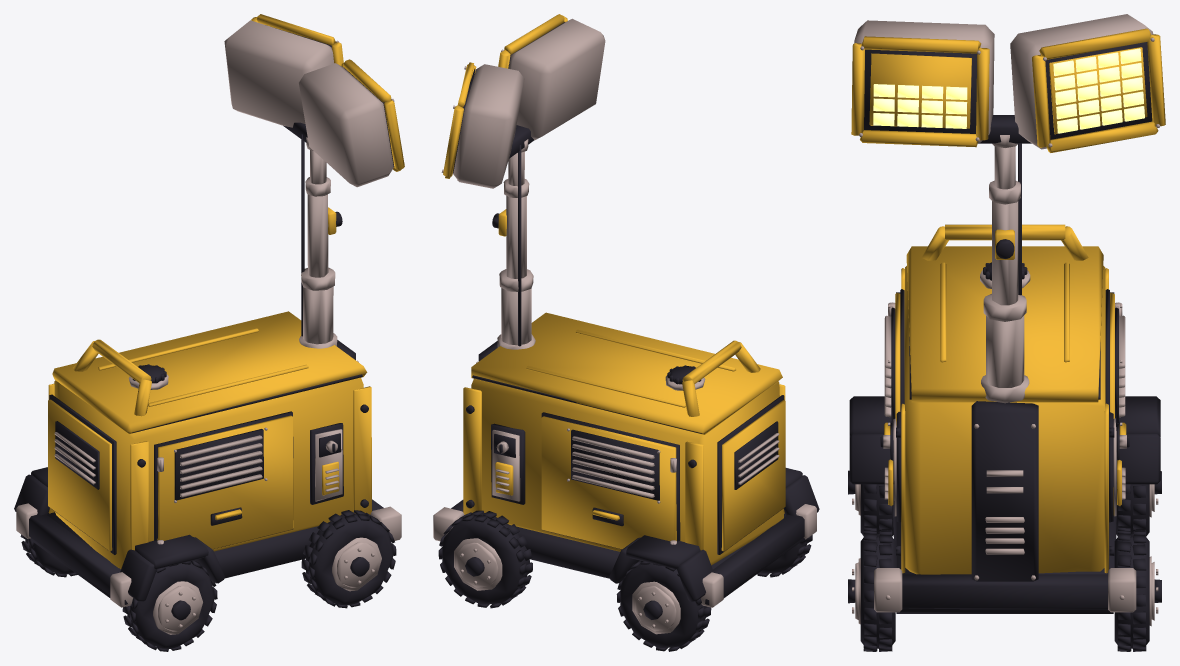
The picture shows the model from 3 angles, left to right: view 1: azimuth 30°, elevation 25°; view 2: azimuth 150°, elevation 25°; view 3: azimuth 270°, elevation 25°; orthographic projection. The views are drawn at different scales.
Parts seen in each view (by area): view 1: object 4, body, wheelFL; view 2: object 4, body, wheelFR; view 3: object 4, body, wheelFR, wheelFL.
Boxes of the visible parts, x1,y1,x2,y2 form: object 4: (14,14,404,651); body: (48,207,371,568); wheelFL: (301,510,396,608); object 4: (433,14,819,651); body: (463,209,785,565); wheelFR: (438,510,532,608); object 4: (848,14,1165,613); body: (888,224,1121,574); wheelFR: (1114,530,1161,651); wheelFL: (848,530,895,651).
Bounding box in the file's own units: 2.55 × 4.15 × 1.9.
